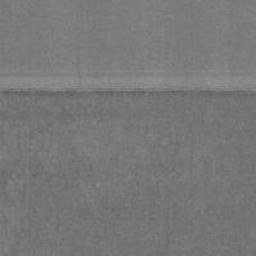Welding line: (0, 86, 256, 97)
